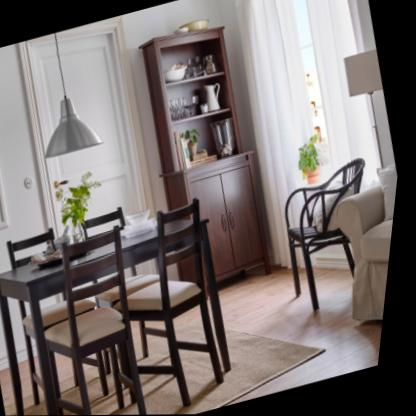Chair: (269, 154, 403, 316)
Sofa: (321, 162, 403, 345)
